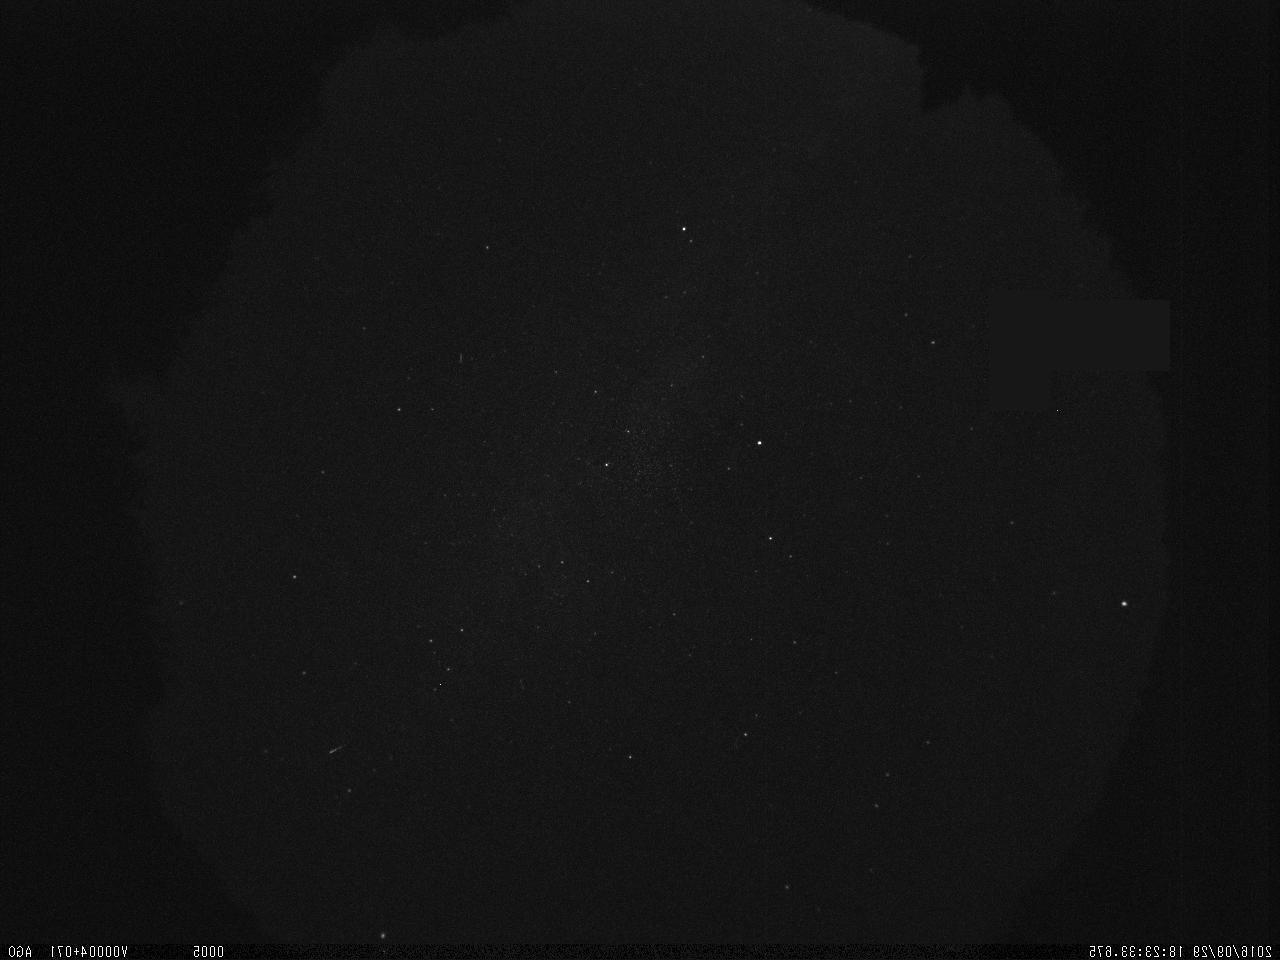meteor: (325, 736, 352, 761)
